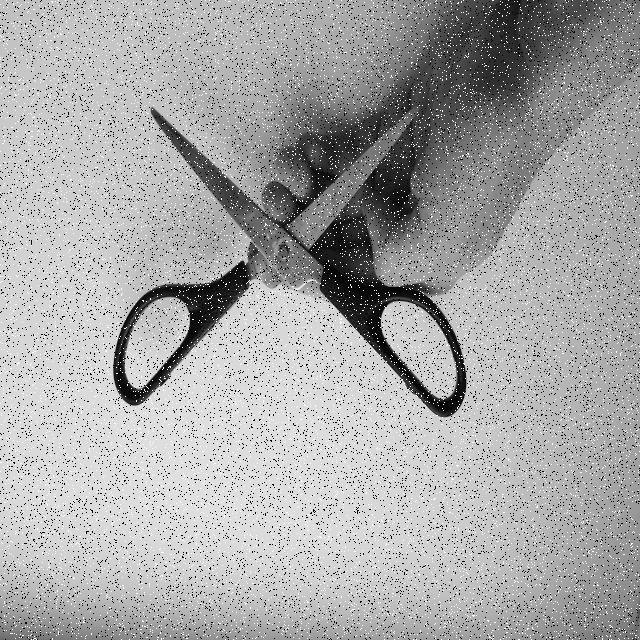scissors: (104, 88, 472, 428)
